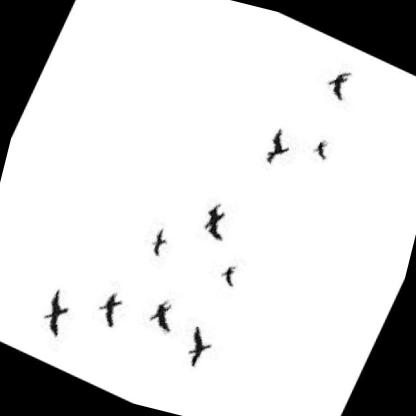bird: (32, 277, 82, 343), (191, 192, 242, 250), (175, 316, 225, 374), (87, 280, 135, 334), (138, 290, 186, 340), (257, 121, 301, 174), (319, 58, 366, 107), (141, 219, 180, 265), (307, 130, 339, 165), (215, 257, 245, 291)
